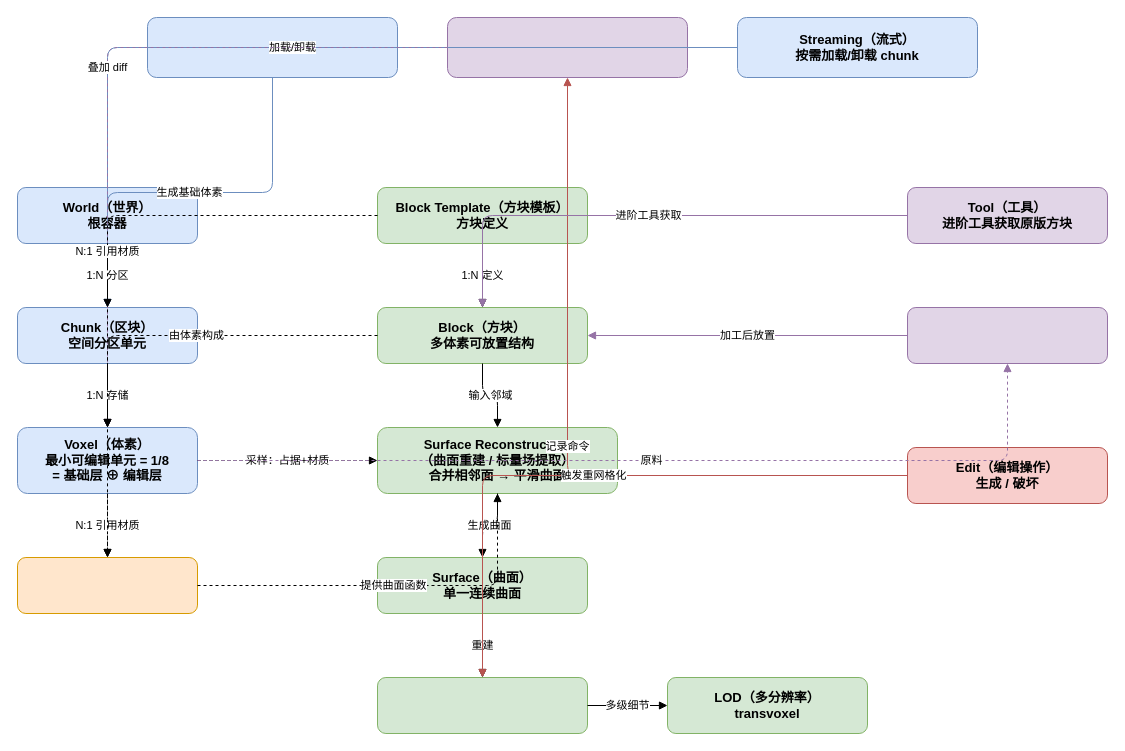
The diagram is 1125 pixels wide and 751 high, and some of its shapes have lost their labels. Here are the shapes that lost their labels. From the top down, the centre of each, then its label:
(x=272, y=47): 基础层生成（程序化） seed + chunk坐标 → 体素（确定性）
(x=567, y=47): 编辑层（Edit Overlay） 稀疏 diff / 可序列化命令
(x=1007, y=335): 加工（Crafting） 体素/材质 → 方块
(x=107, y=585): Material（材质） 视觉+物理+曲面函数
(x=482, y=705): Mesh（网格） 视觉 + 碰撞
